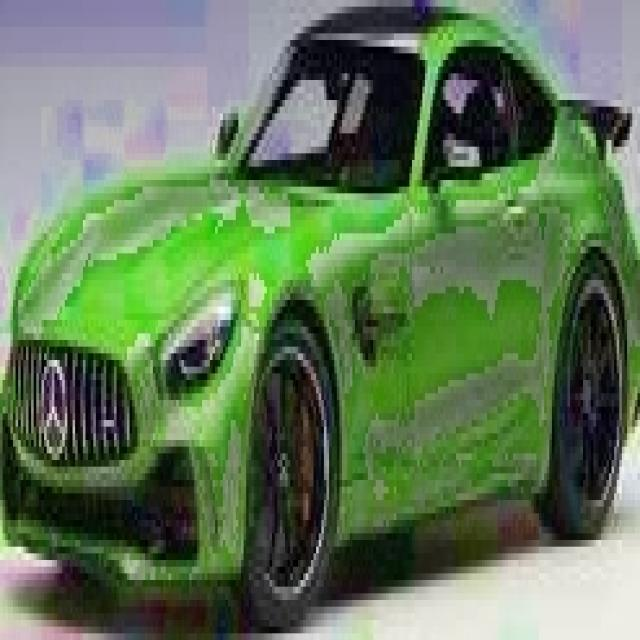green: (10, 3, 640, 630)
